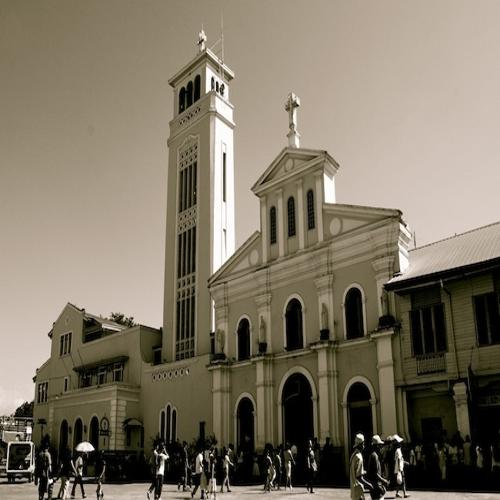Manaoag Church: (146, 19, 412, 479)
